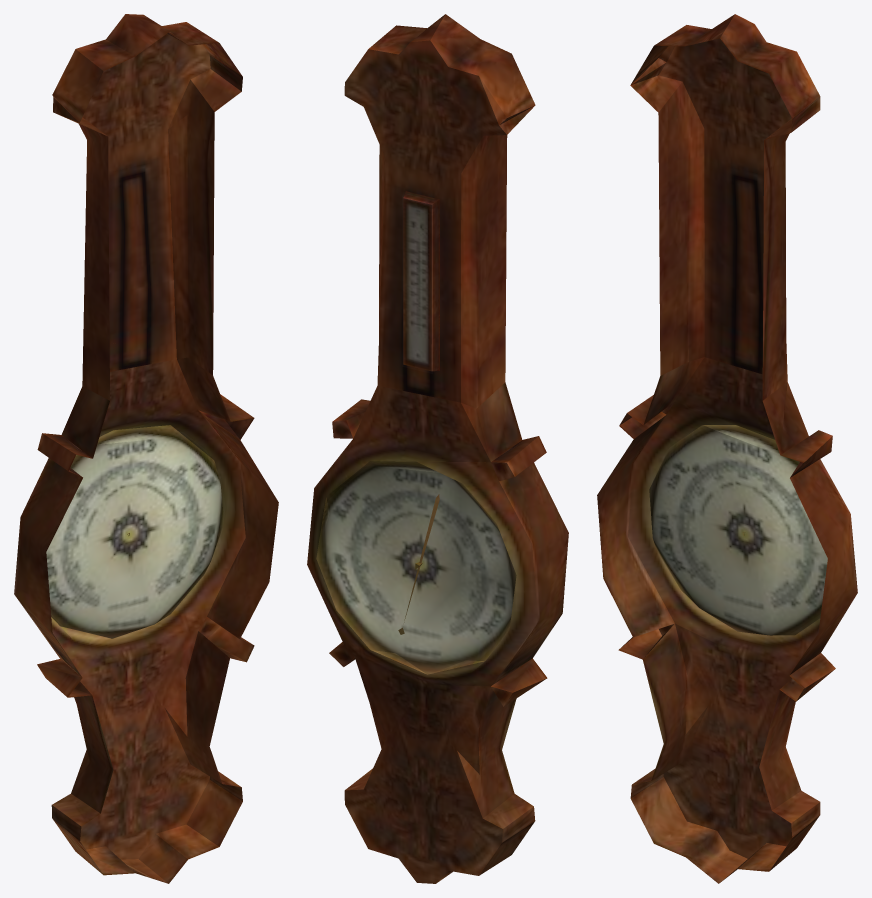
The model's file is barometer-wall.lod1.glb.
3 views of the same model, side by side, from view 1: azimuth 30°, elevation 25°; view 2: azimuth 150°, elevation 25°; view 3: azimuth 330°, elevation 25° (orthographic).
Parts seen in each view (by area): view 1: barometer-wall; view 2: barometer-wall; view 3: barometer-wall.
Part boxes in pixels (bbox=[...]): barometer-wall: bbox=[14, 14, 278, 883]; barometer-wall: bbox=[307, 14, 568, 883]; barometer-wall: bbox=[597, 14, 857, 883].
Size of the model in its own units: 0.3157 by 1.1 by 0.0899.
Materials: 2 (1 with a texture image).
